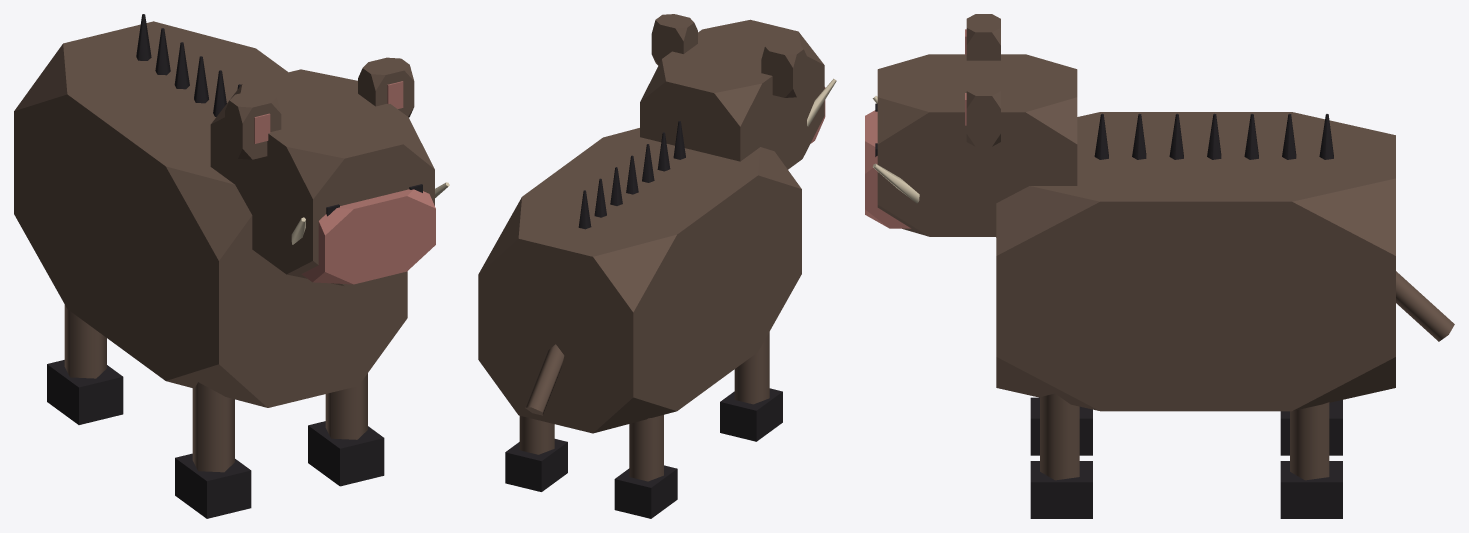
File: original-pig.glb
3 views of the same model, side by side, from view 1: azimuth 30°, elevation 25°; view 2: azimuth 150°, elevation 25°; view 3: azimuth 270°, elevation 25° (orthographic). The views are drawn at different scales.
Parts seen in each view (by area): view 1: pig; view 2: pig; view 3: pig.
Boxes of the visible parts, x1,y1,x2,y2 form: pig: (14,14,449,518); pig: (478,14,836,518); pig: (865,14,1454,518).
Size of the model in its own units: 0.6801 by 1.49 by 1.89.
